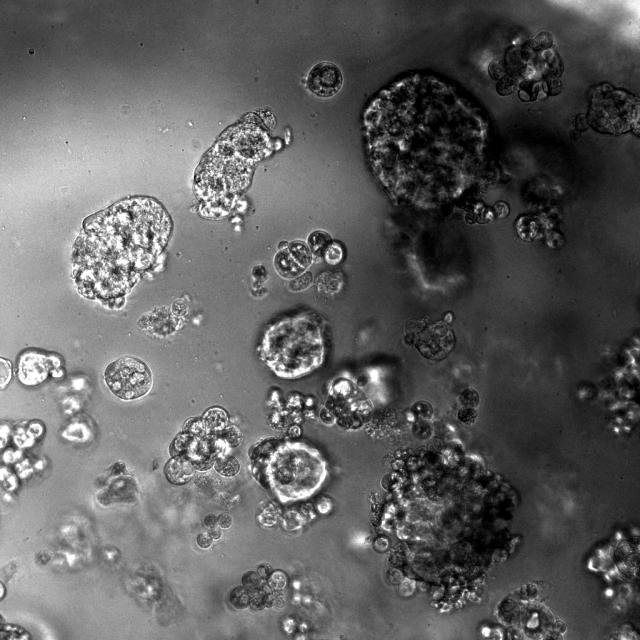organoid: (362, 70, 600, 295), (371, 388, 521, 612), (36, 514, 180, 624), (248, 387, 332, 532), (192, 108, 291, 230), (71, 196, 172, 307), (0, 348, 97, 446), (164, 406, 244, 510), (319, 353, 409, 441), (229, 563, 328, 639), (469, 22, 564, 101), (586, 525, 639, 639), (578, 334, 639, 433), (479, 582, 566, 639), (273, 229, 346, 296), (0, 418, 49, 515), (258, 312, 326, 379), (570, 82, 639, 139), (404, 313, 455, 361), (104, 356, 152, 400), (138, 298, 188, 339), (95, 461, 139, 506), (304, 61, 342, 98), (196, 512, 232, 549), (0, 614, 31, 639), (0, 561, 18, 601), (250, 264, 268, 297)
